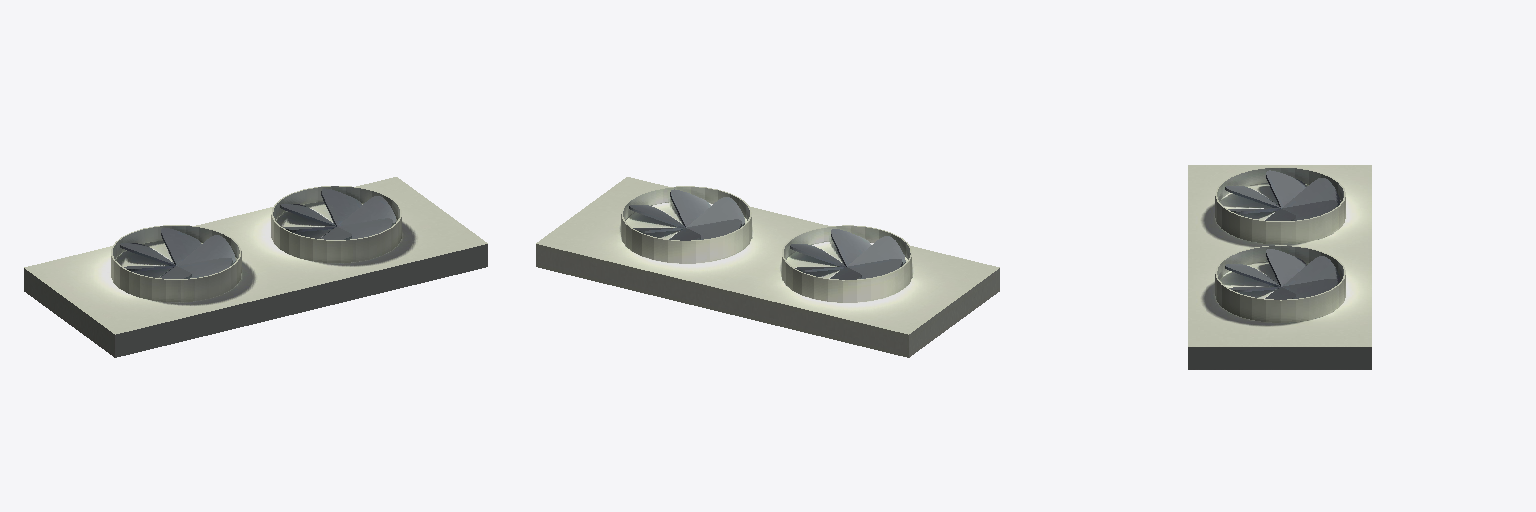
3 views of the same model, side by side, from view 1: azimuth 30°, elevation 25°; view 2: azimuth 150°, elevation 25°; view 3: azimuth 270°, elevation 25° (orthographic).
Parts seen in each view (by area): view 1: 18; view 2: 18; view 3: 18.
Part boxes in pixels (x1,y1,x2,y2): 18: (24, 177, 487, 357); 18: (536, 177, 999, 357); 18: (1188, 165, 1371, 369).
Size of the model in its own units: 870 by 102 by 370.
Materials: 1 (1 with a texture image).